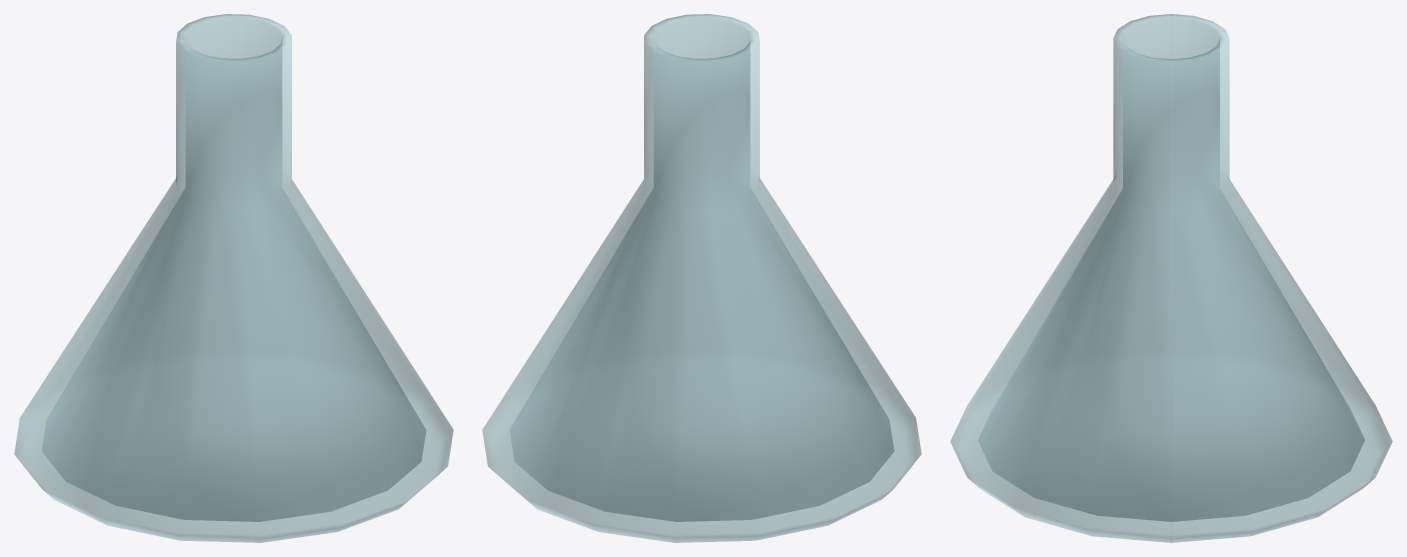
File: beaker1.glb
3 views of the same model, side by side, from view 1: azimuth 30°, elevation 25°; view 2: azimuth 150°, elevation 25°; view 3: azimuth 270°, elevation 25° (orthographic).
Visible parts, largest first — view 1: beaker; view 2: beaker; view 3: beaker.
Boxes of the visible parts, x1,y1,x2,y2 form: beaker: [14, 14, 453, 542]; beaker: [482, 14, 921, 542]; beaker: [950, 14, 1392, 542].
Bounding box in the file's own units: 1.92 × 2 × 1.92.
